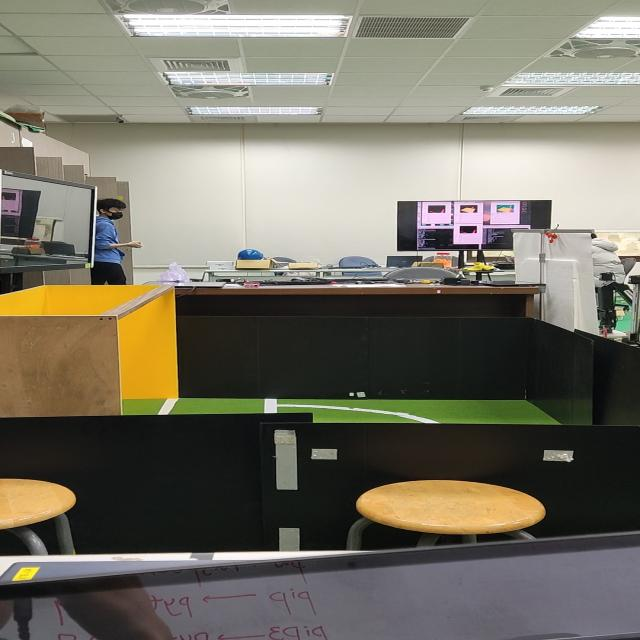person: (87, 196, 148, 284)
